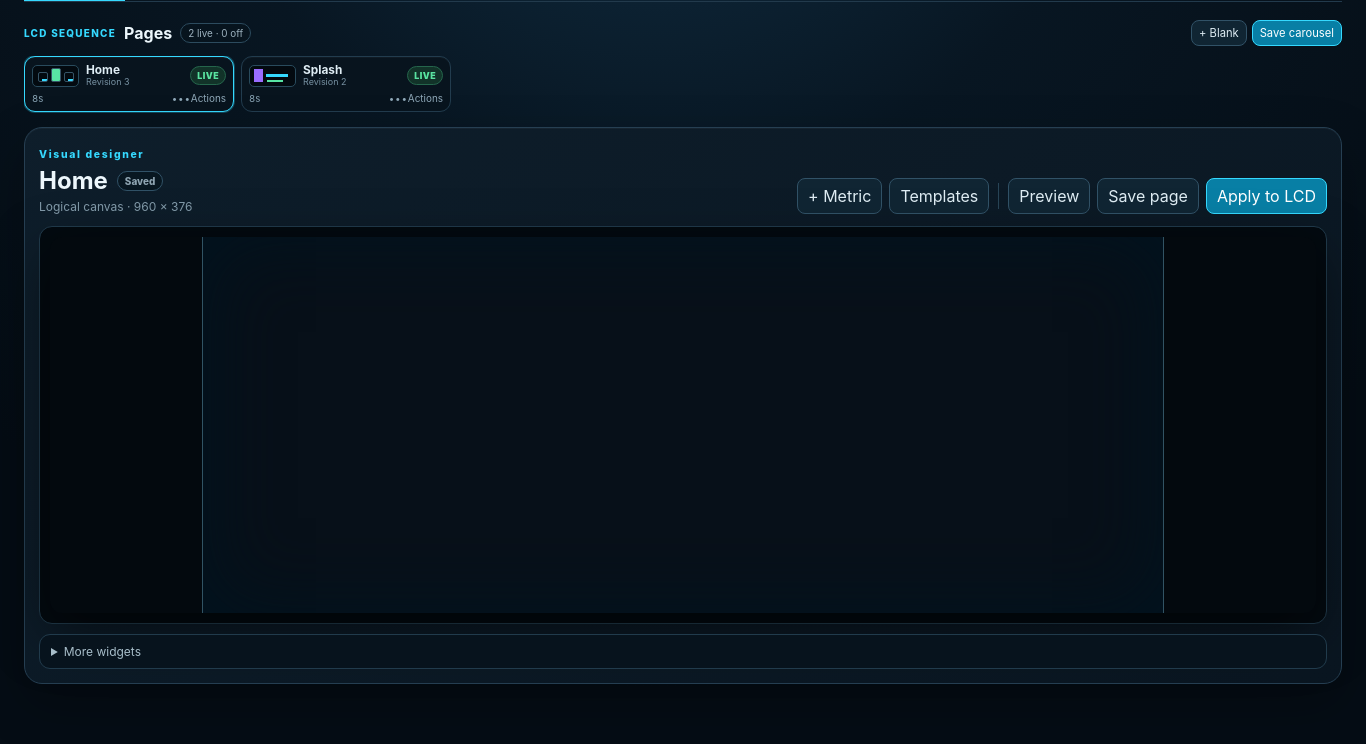
Test case: admin page persistence › adds bound text metrics without replacing their value or changing static text defaults
The width and height of the screenshot is (1366, 744).
(page scrolled)
Expected: the heading "Home" is shown, x1=39 y1=166 x2=108 y2=195
Click the heading "More widgets". click: (102, 652)
box: x1=64 y1=644 x2=141 y2=659
(page scrolled)
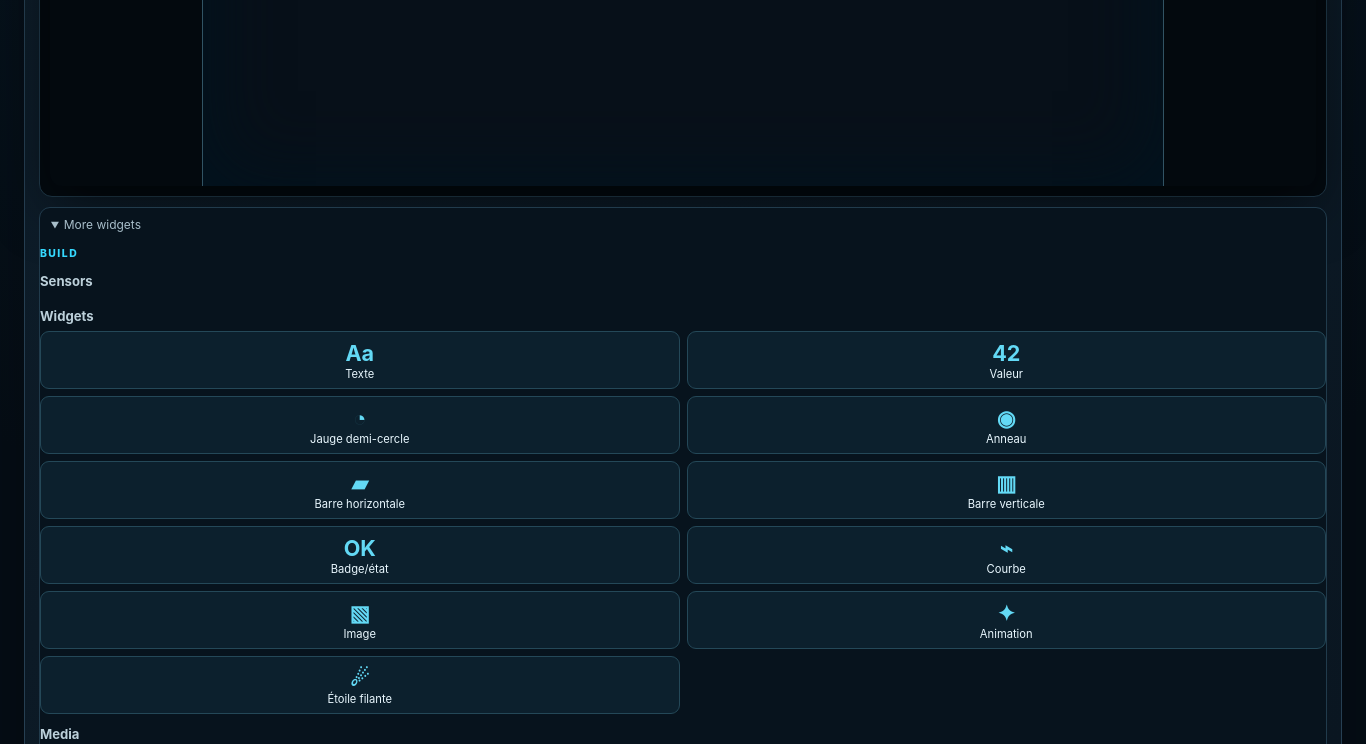
Click the button with aria-label "Ajouter Texte". click: (360, 360)
box: x1=40 y1=331 x2=680 y2=389
(page scrolled)
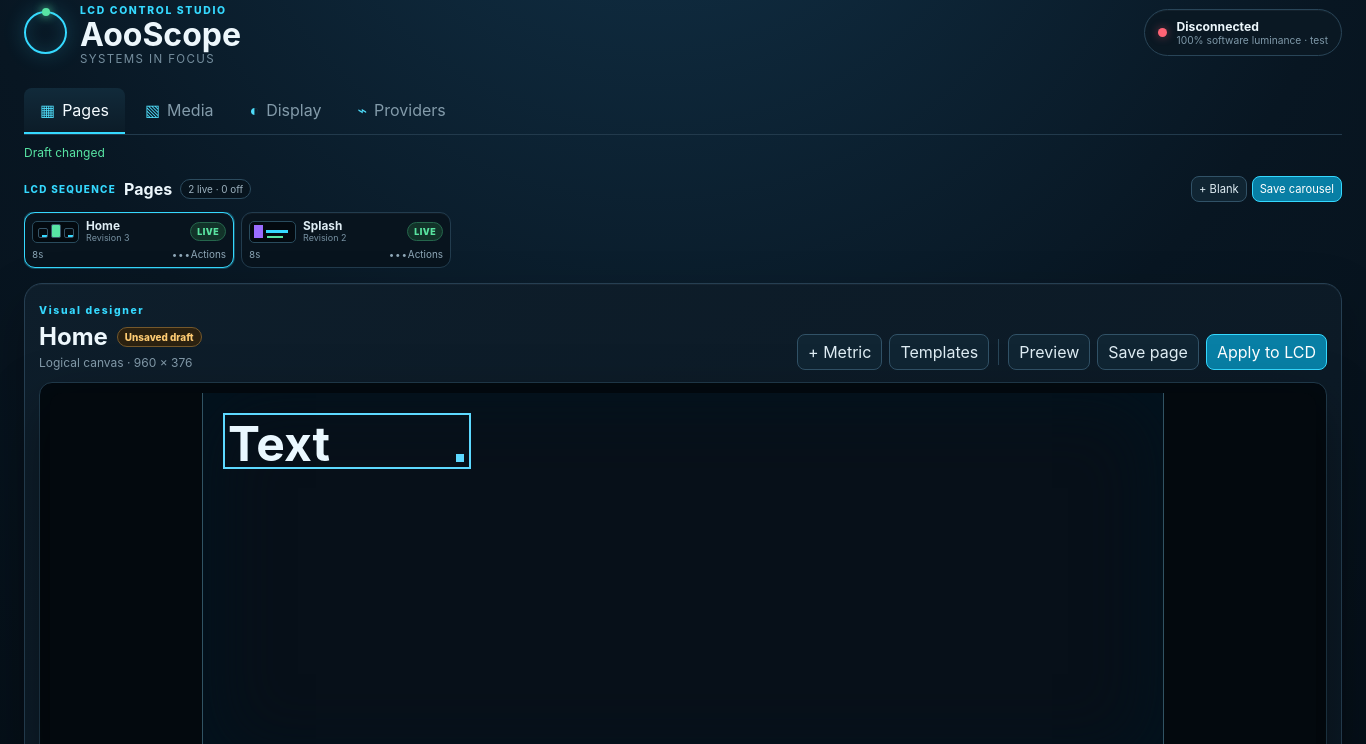
Now the text "Text" is shown, box x1=228 y1=418 x2=330 y2=464
Click the button "+ Metric". click: (840, 352)
box: x1=797 y1=334 x2=882 y2=370
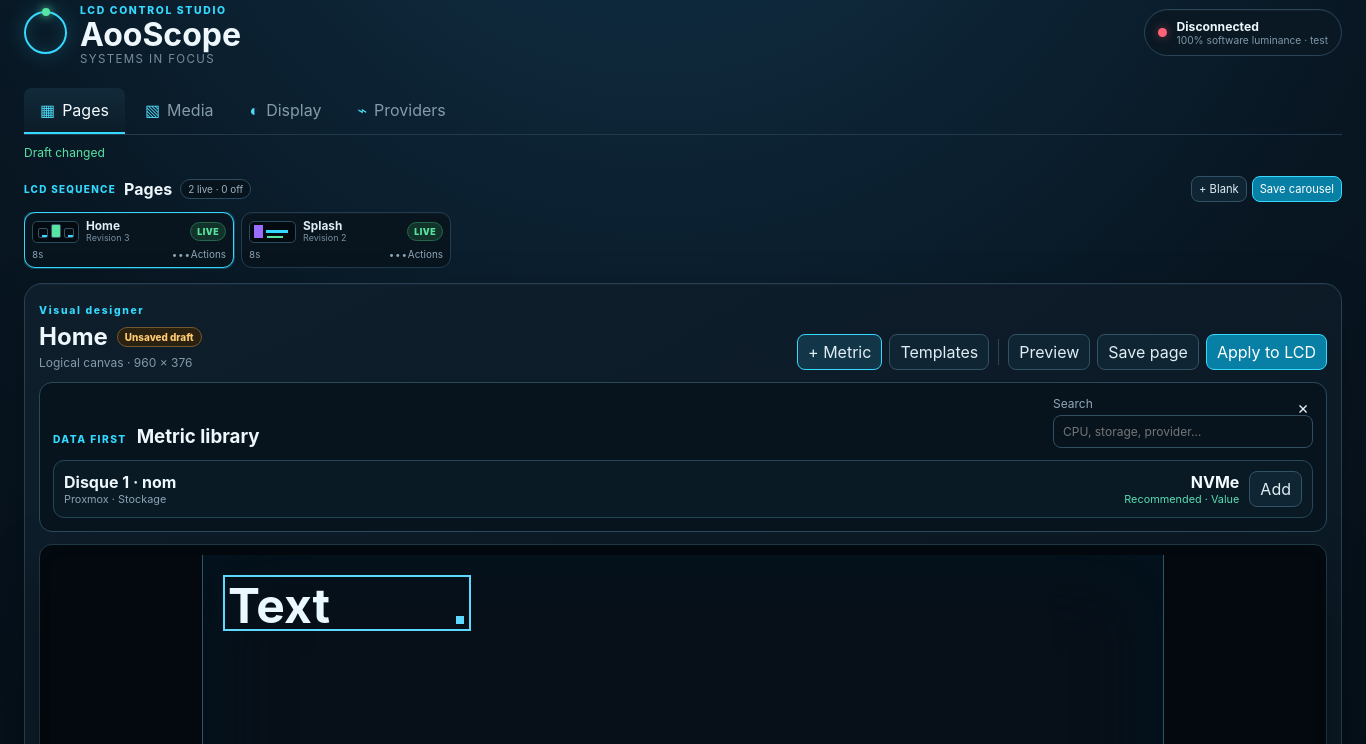
Click the button with aria-label "Add Disque 1 · nom". click: (1276, 489)
box: x1=1249 y1=471 x2=1302 y2=507
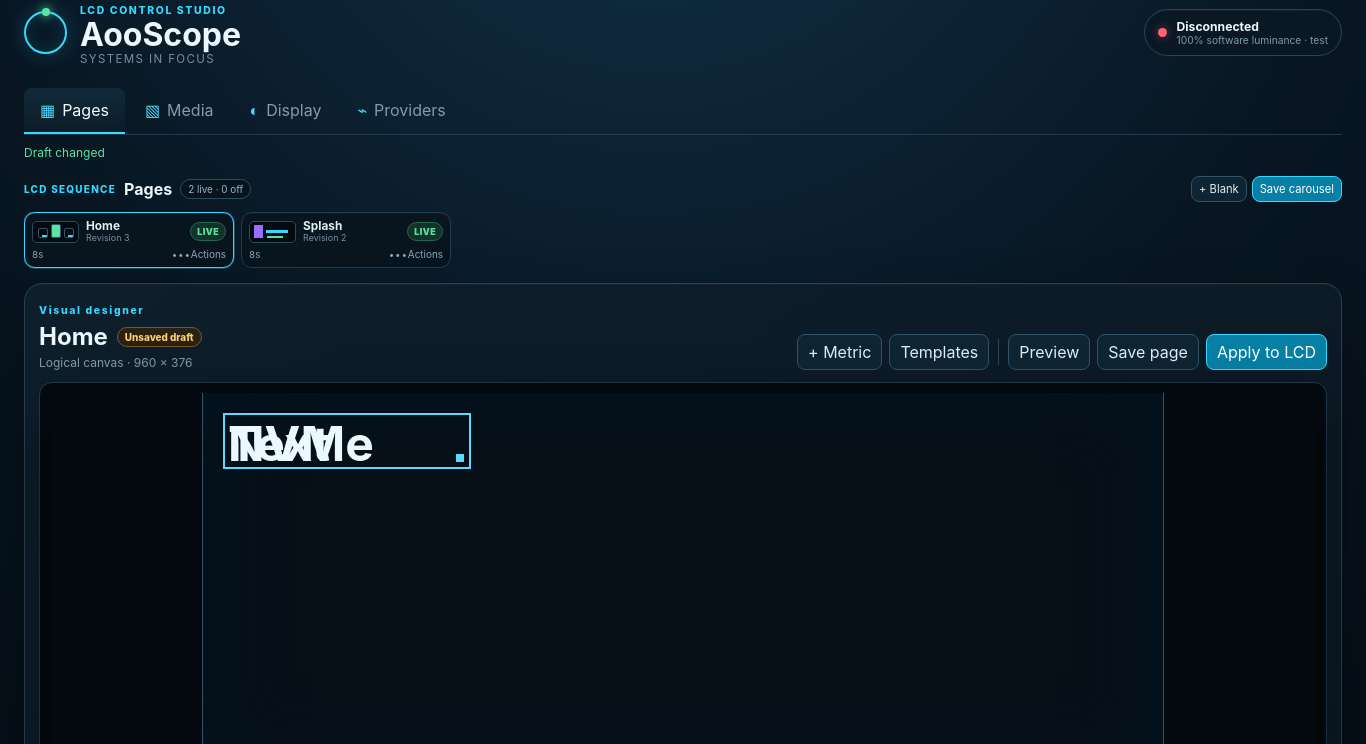
Now the button with aria-label "Select Disque 1 · nom" is shown, box x1=227 y1=417 x2=467 y2=465
Now the text "NVMe" is shown, box x1=228 y1=418 x2=374 y2=464
Now the text "Text" is shown once, box x1=228 y1=418 x2=330 y2=464
